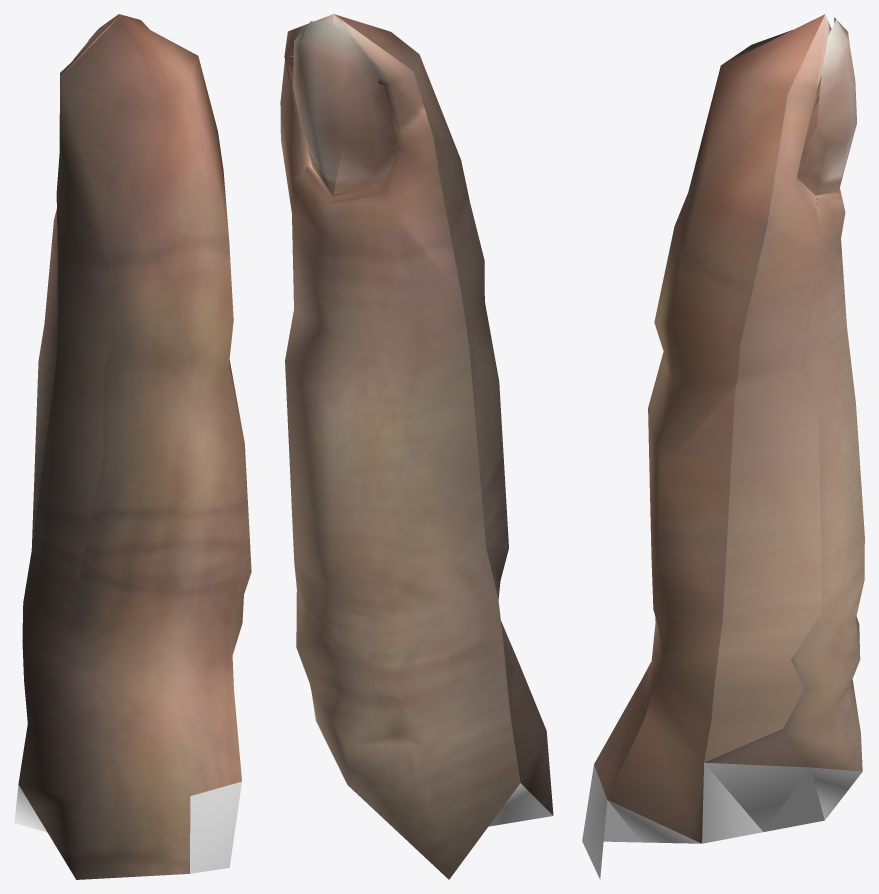
The model's file is kuku.fbx.
3 renders of one model, left to right at view 1: azimuth 30°, elevation 25°; view 2: azimuth 150°, elevation 25°; view 3: azimuth 270°, elevation 25°, orthographic. The views are drawn at different scales.
Visible parts, largest first — view 1: Model; view 2: Model; view 3: Model.
Boxes of the visible parts, box(x1,y1,x2,y2) form: Model: box(14, 14, 251, 879); Model: box(280, 14, 553, 879); Model: box(582, 14, 864, 879).
Bounding box in the file's own units: 2.73 × 9.52 × 2.82.
